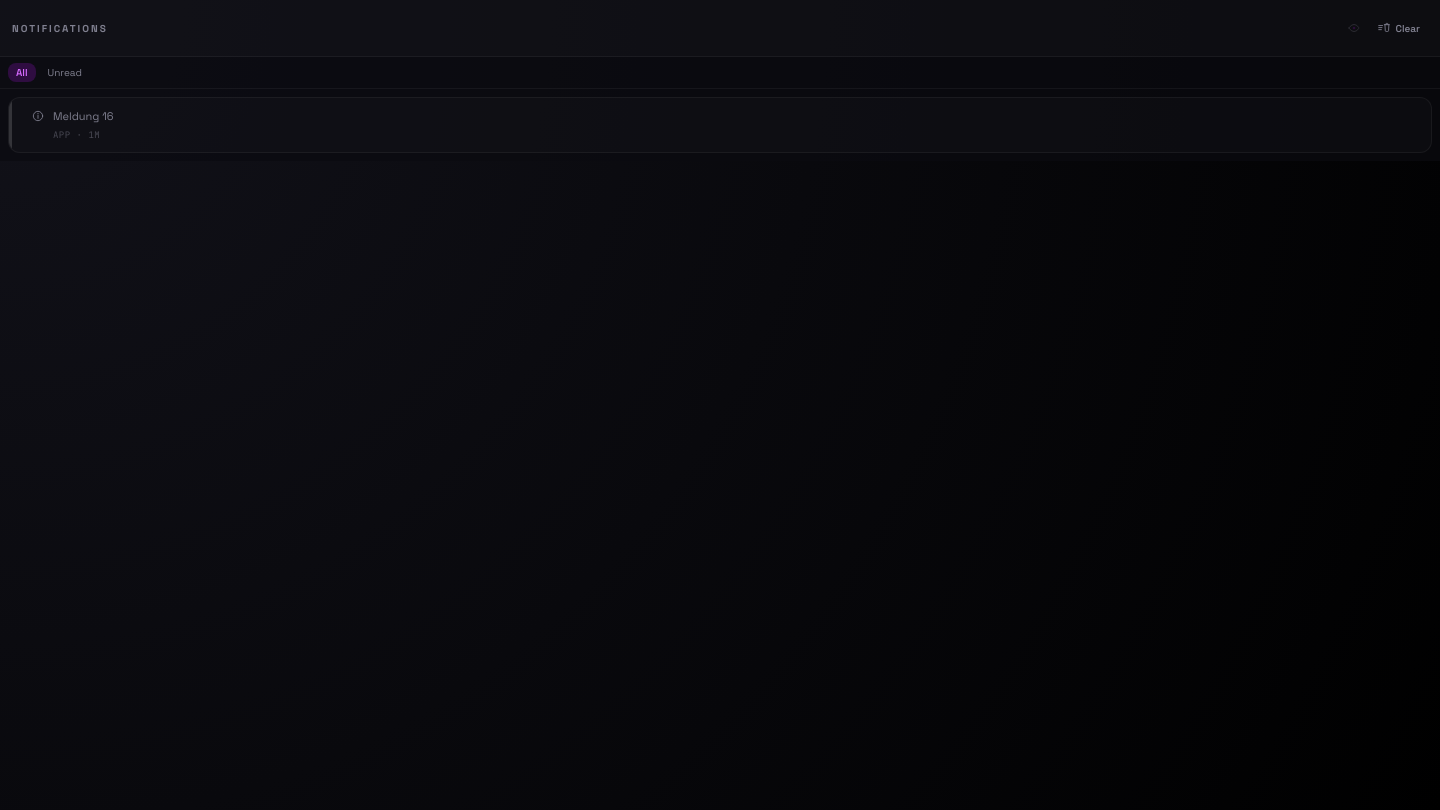
Test case: NotificationsPanel › filters › explains an empty result differently from an empty inbox
Step 1. Click the button with test id "notifications-filter-unread" → (65, 72), box [40, 63, 90, 82]
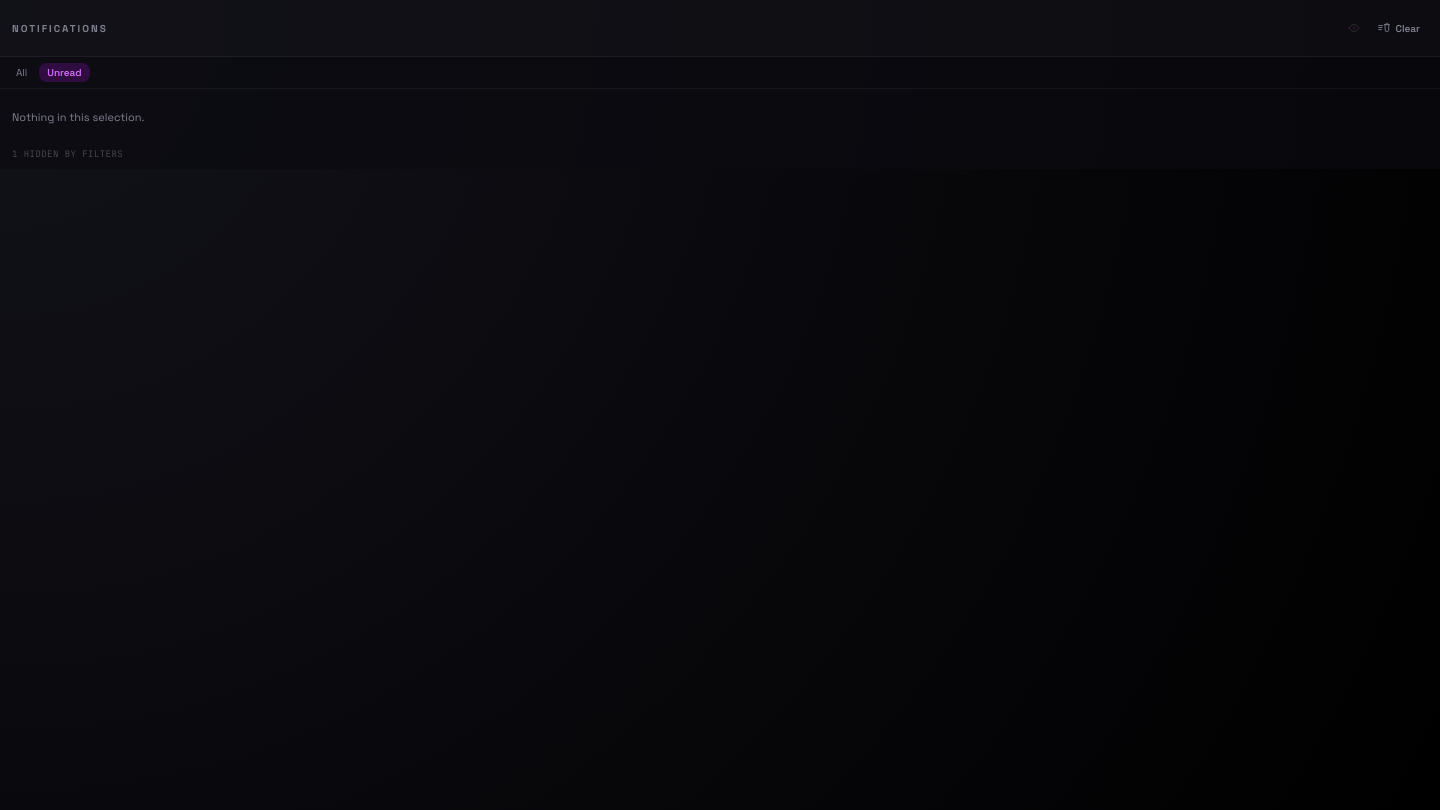
Check: the text with test id "notifications-empty" reads "Nothing in this selection.", box [12, 110, 144, 124]
